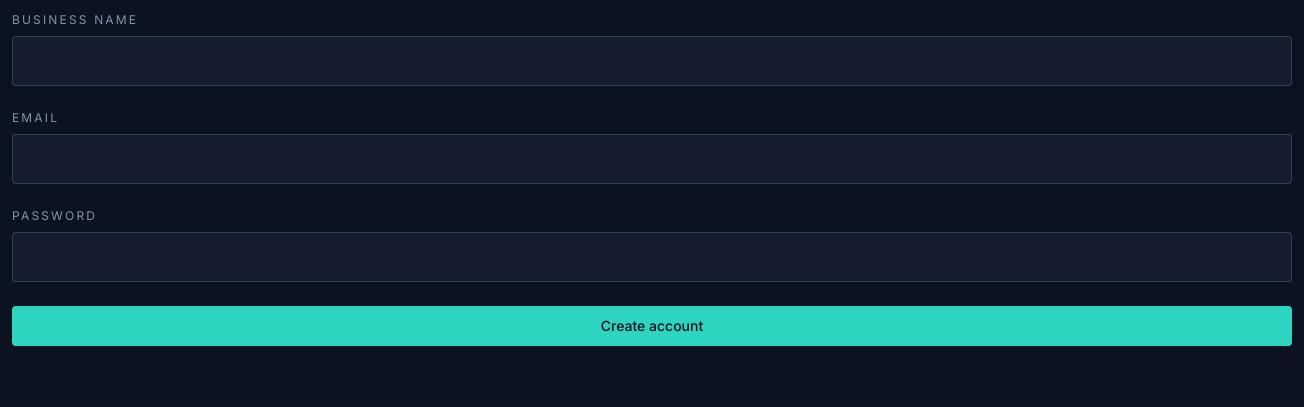
Test: AuthForm › shows a friendly message when the email is taken
Type "Shop" into the field labelled "Business name". click: (652, 61)
box: [12, 36, 1292, 86]
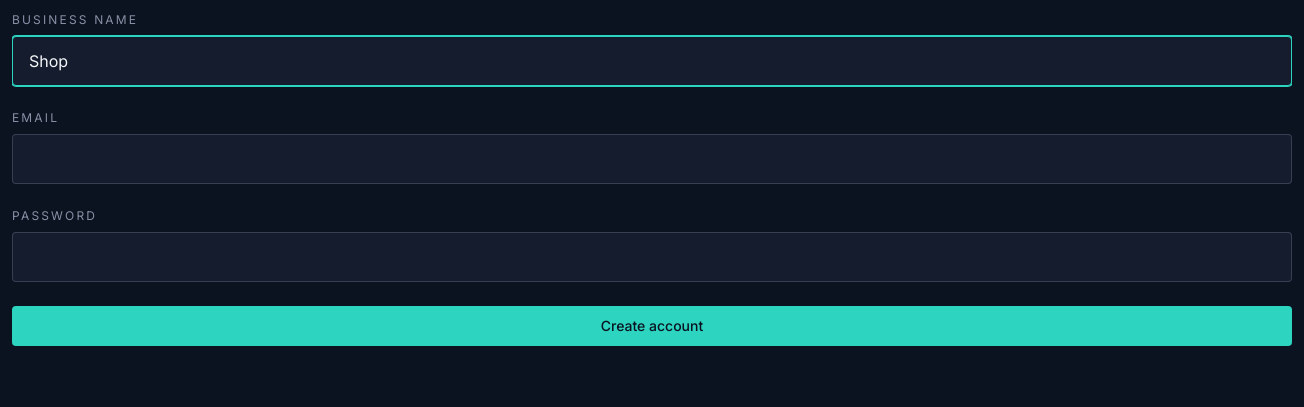
Type "taken@shop.pk" into the field labelled "Email". click: (652, 159)
box: [12, 134, 1292, 184]
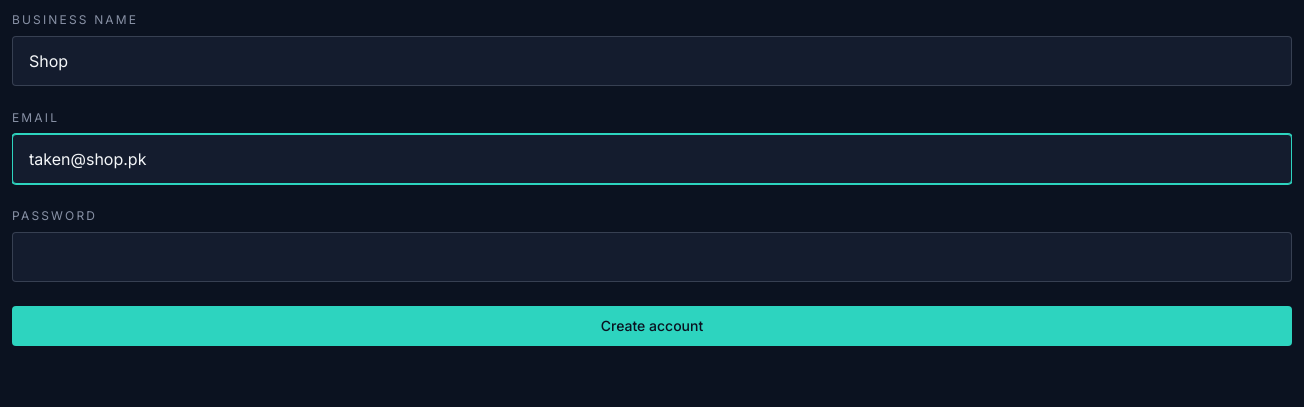
Type "correct-horse" into the password field labelled "Password". click: (652, 257)
box: [12, 232, 1292, 282]
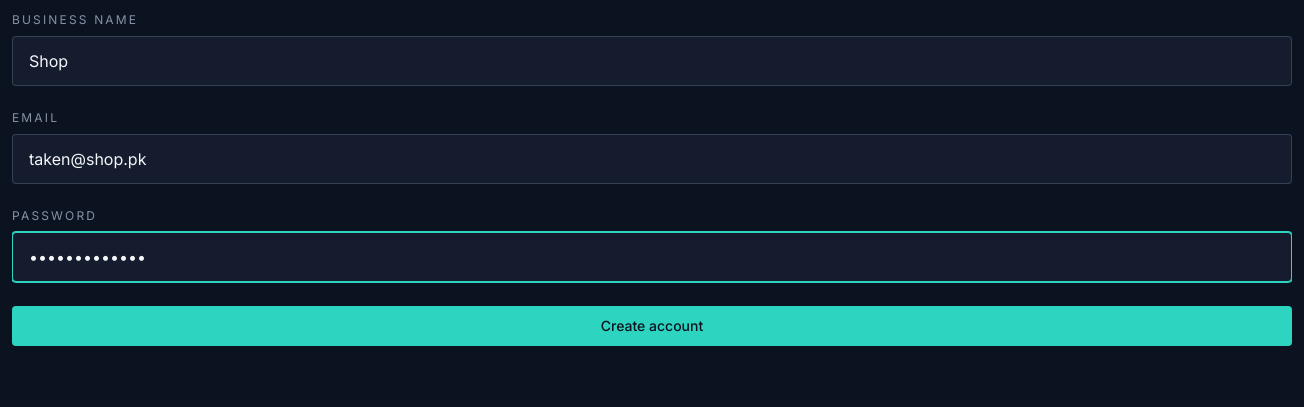
Click the button "Create account". click: (652, 326)
box: [12, 306, 1292, 346]
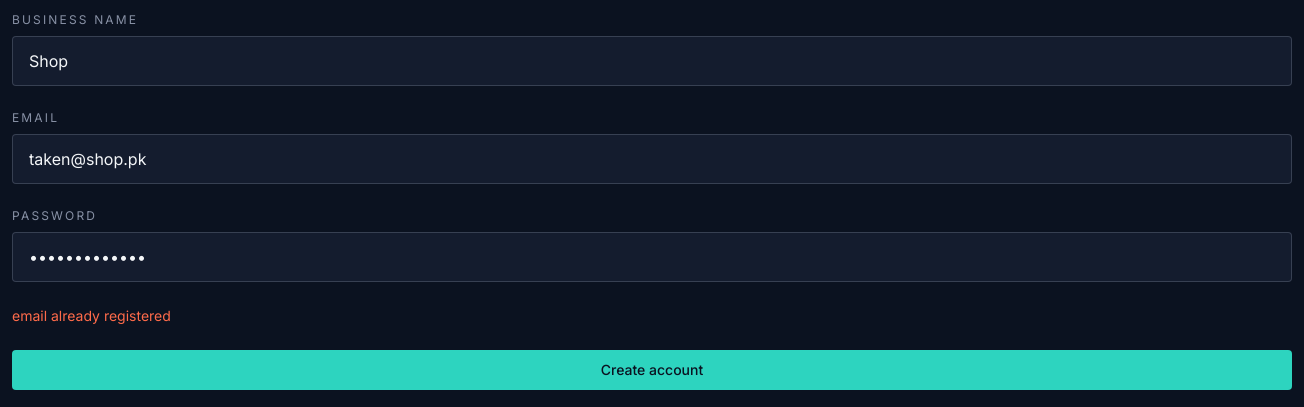
Check: the message reads "email already registered", box [12, 307, 171, 324]
